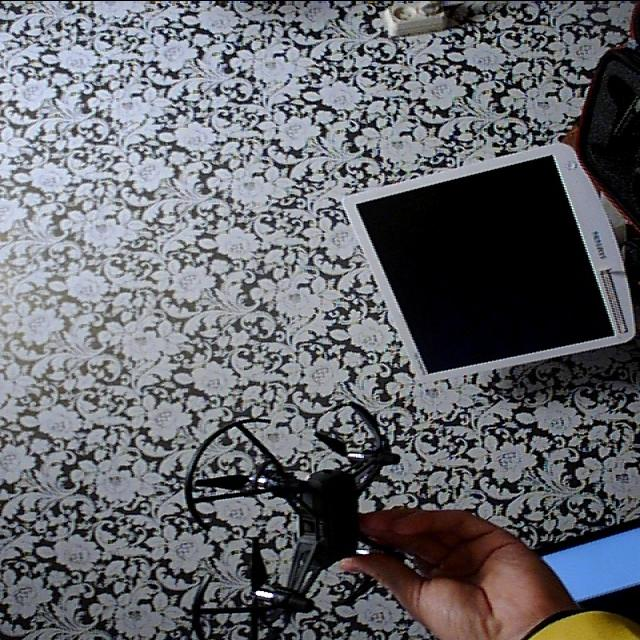drone: (168, 376, 432, 640)
